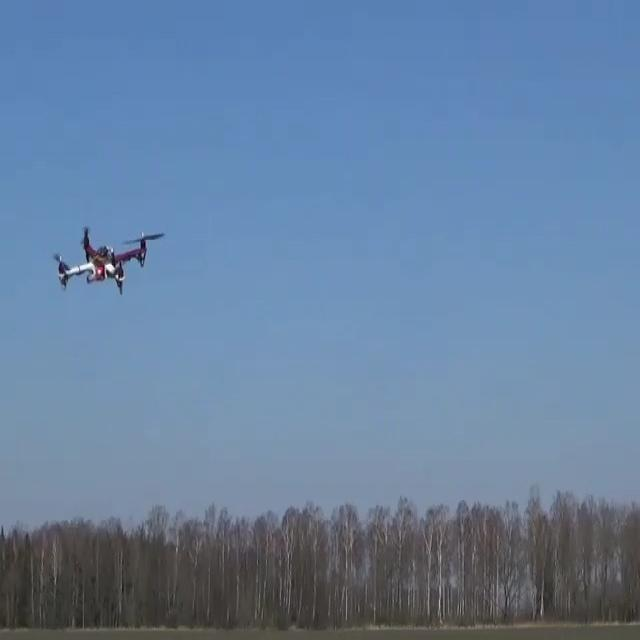drone: (52, 225, 164, 295)
